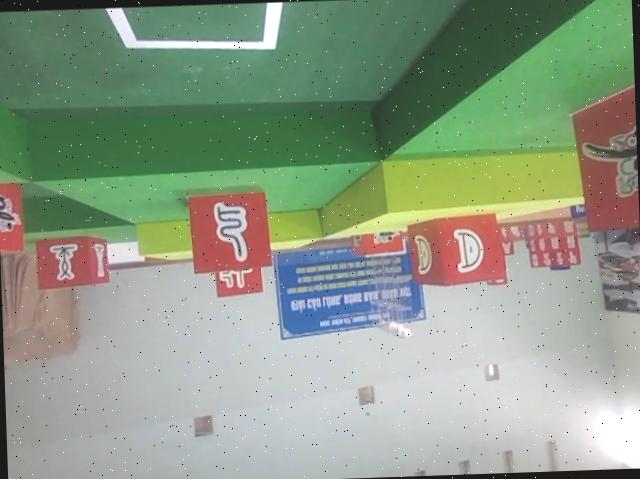R1: (569, 80, 640, 236), (0, 173, 25, 260)
R2 Fake: (188, 190, 272, 273)
R2 Real: (409, 211, 505, 287), (35, 234, 110, 290)
